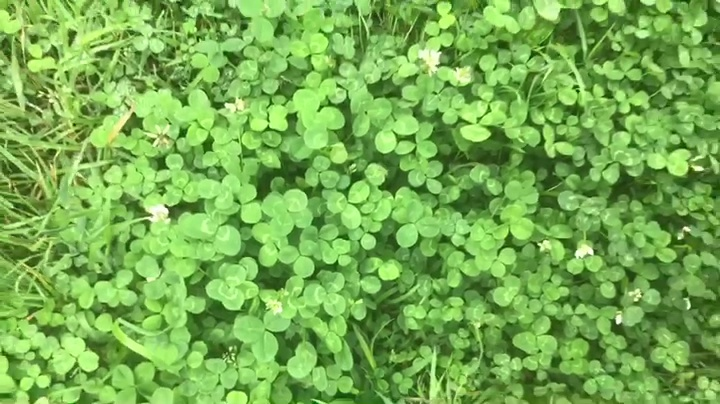4-clover: (263, 188, 311, 237)
